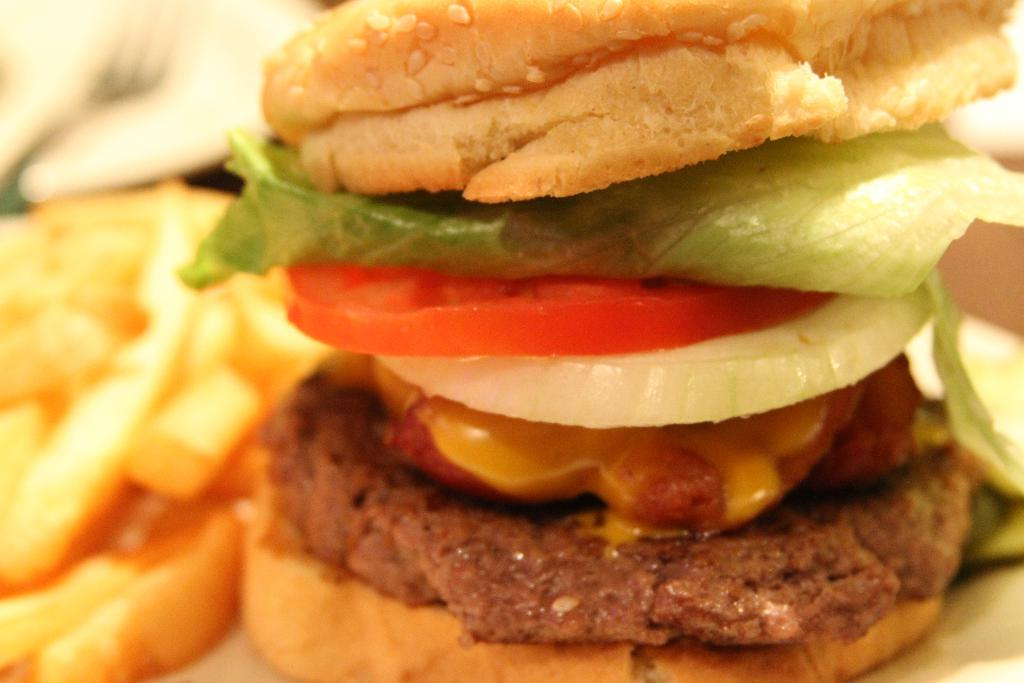French fries: (0, 176, 328, 682)
